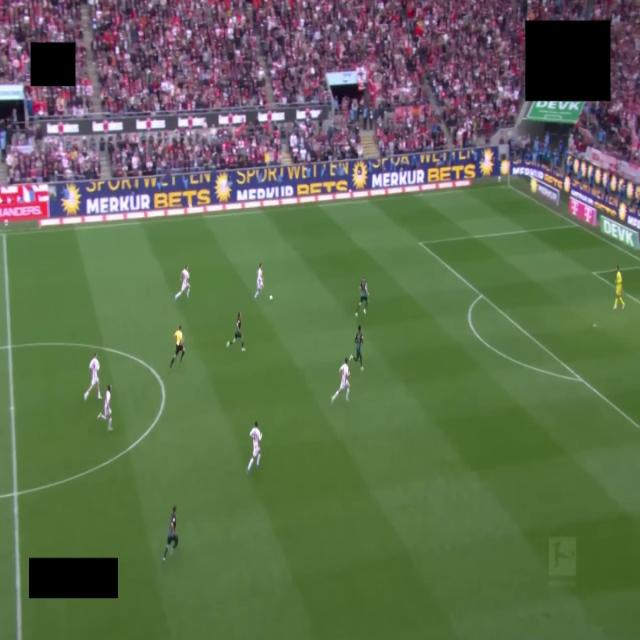ball: (269, 296, 272, 300)
player: (163, 506, 178, 562), (84, 352, 101, 400), (331, 359, 349, 403), (247, 422, 262, 473), (227, 312, 245, 351), (98, 384, 112, 431), (350, 326, 363, 370), (175, 265, 190, 300), (355, 277, 368, 316), (614, 267, 624, 310), (254, 264, 263, 299)
referee: (170, 326, 184, 368)
